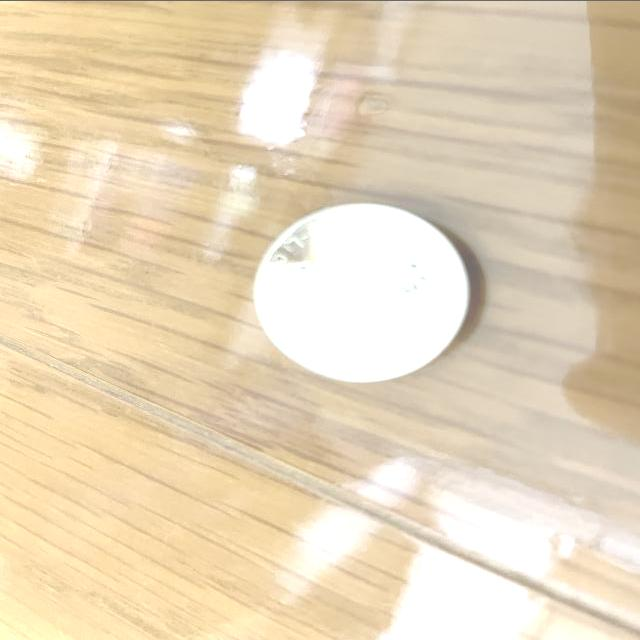COIN: (254, 200, 476, 384)
